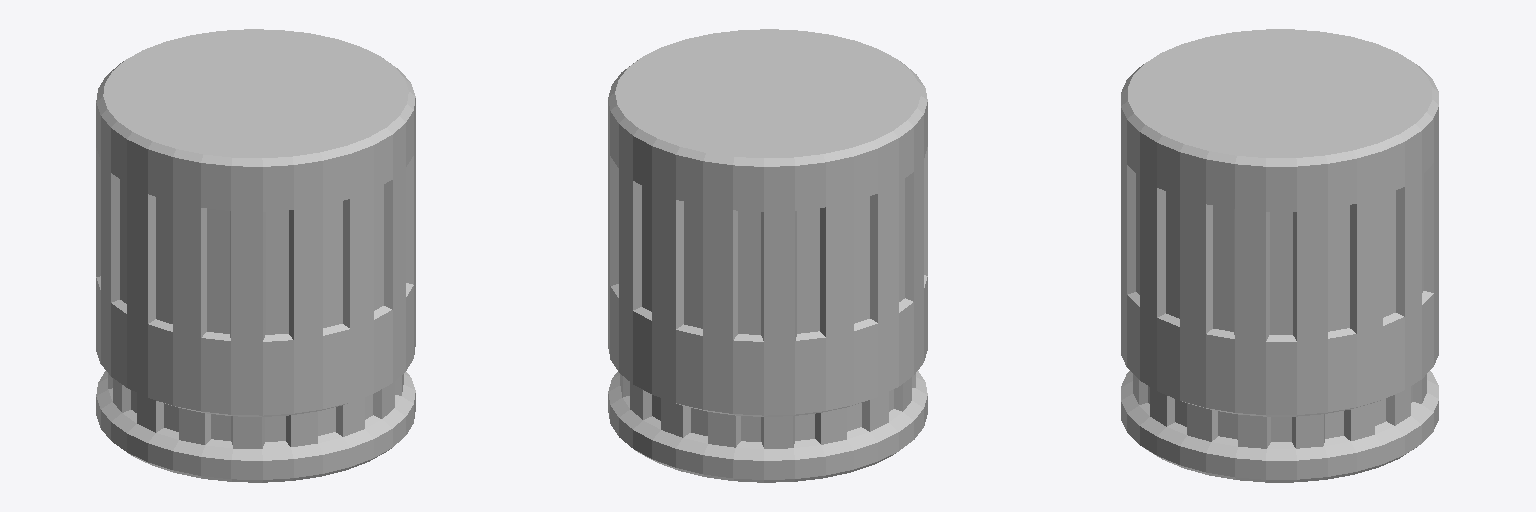
The model's file is Plastic2.obj.
The picture shows the model from 3 angles: view 1: azimuth 30°, elevation 25°; view 2: azimuth 150°, elevation 25°; view 3: azimuth 270°, elevation 25°; orthographic projection.
Parts seen in each view (by area): view 1: black_plastic.001; view 2: black_plastic.001; view 3: black_plastic.001.
Boxes of the visible parts, x1=… form: black_plastic.001: x1=96, y1=29, x2=415, y2=482; black_plastic.001: x1=608, y1=29, x2=927, y2=482; black_plastic.001: x1=1121, y1=29, x2=1438, y2=482.
Size of the model in its own units: 0.0174 by 0.0195 by 0.0174.